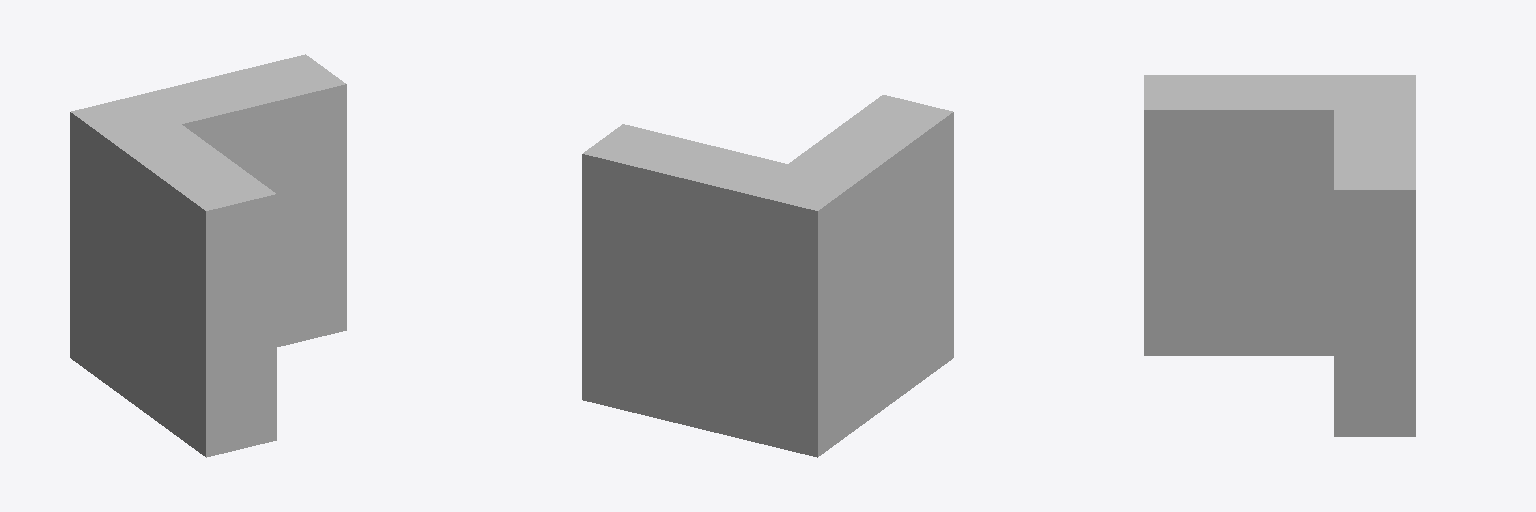
File: Tr-SupportLever.obj
3 views of the same model, side by side, from view 1: azimuth 30°, elevation 25°; view 2: azimuth 150°, elevation 25°; view 3: azimuth 270°, elevation 25° (orthographic).
Visible parts, largest first — view 1: Tr-SupportLever_Support.001_Cube.006; view 2: Tr-SupportLever_Support.001_Cube.006; view 3: Tr-SupportLever_Support.001_Cube.006.
Boxes of the visible parts, x1=… form: Tr-SupportLever_Support.001_Cube.006: x1=70, y1=54, x2=346, y2=457; Tr-SupportLever_Support.001_Cube.006: x1=582, y1=95, x2=953, y2=457; Tr-SupportLever_Support.001_Cube.006: x1=1144, y1=75, x2=1415, y2=436.
Size of the model in its own units: 1 by 1 by 1.